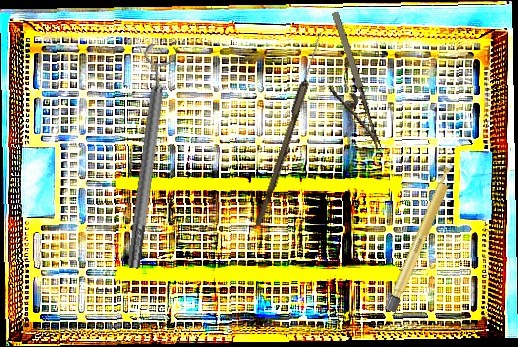Fixation Ring: (114, 42, 181, 271)
Needle Holder: (309, 10, 383, 160)
Scalpel Handle: (384, 161, 459, 314)
Surgical Spoon: (255, 29, 325, 229)
